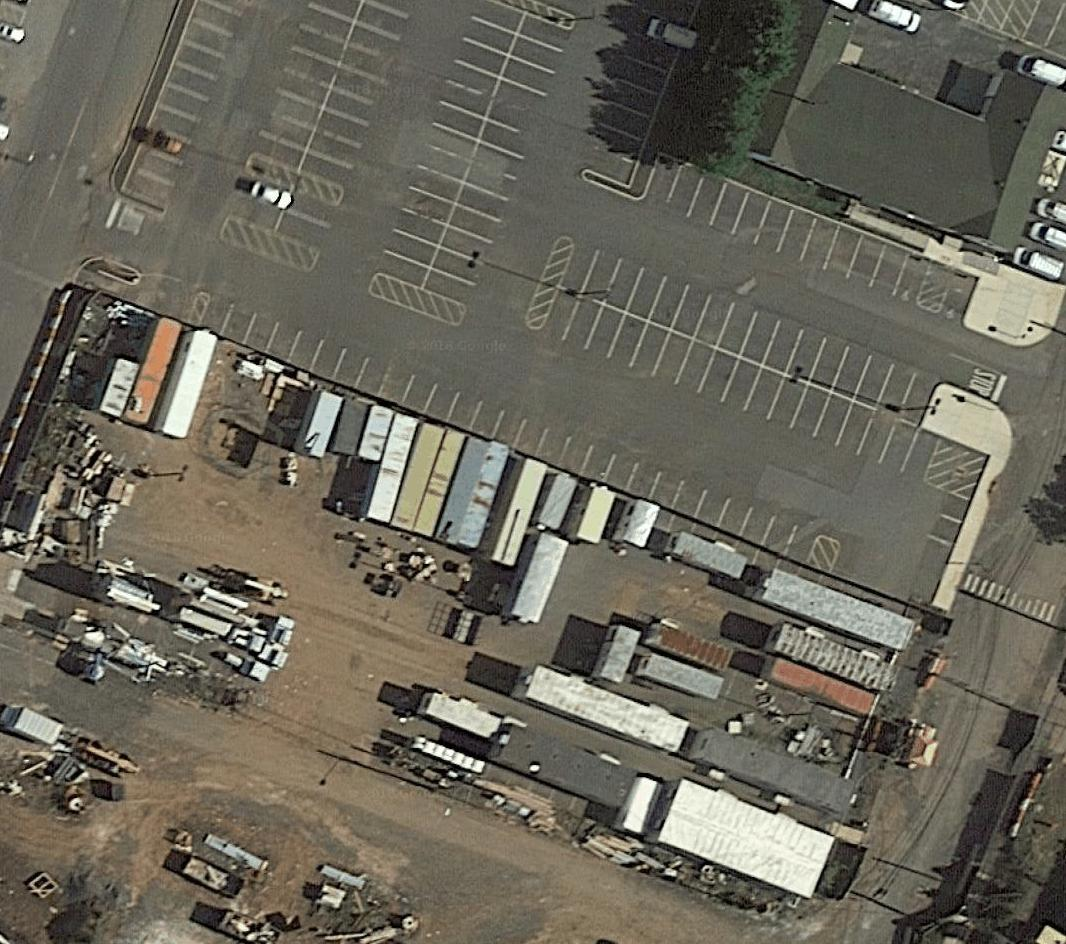parkingspot: (196, 292, 822, 567), (537, 284, 943, 485), (556, 238, 942, 429), (419, 10, 576, 311), (638, 152, 934, 308), (372, 0, 528, 293), (120, 0, 258, 211), (294, 0, 421, 191), (578, 0, 703, 189), (249, 0, 365, 174), (1006, 192, 1066, 286), (270, 184, 345, 258), (225, 166, 296, 235), (935, 266, 982, 327), (1016, 19, 1066, 61)
